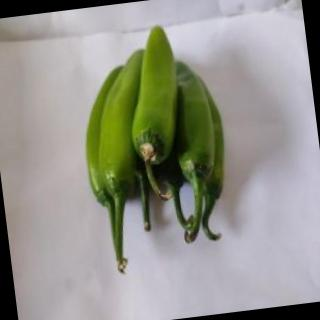Cabai Hijau: (115, 23, 195, 209)
